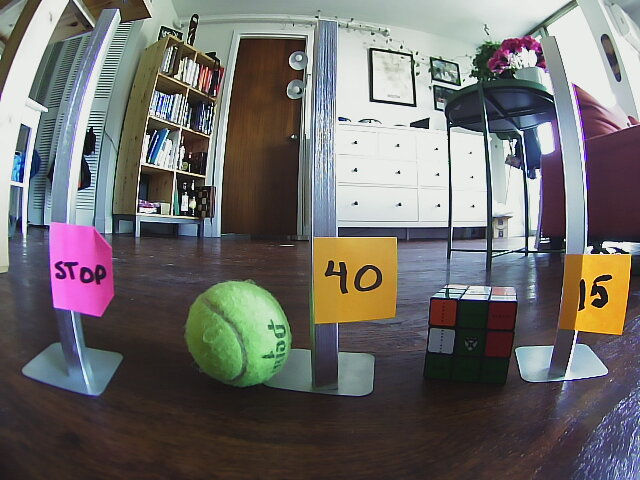15: (562, 253, 624, 331)
40: (316, 238, 396, 322)
ball: (185, 282, 291, 386)
cube: (428, 287, 516, 394)
stop: (47, 226, 109, 312)
